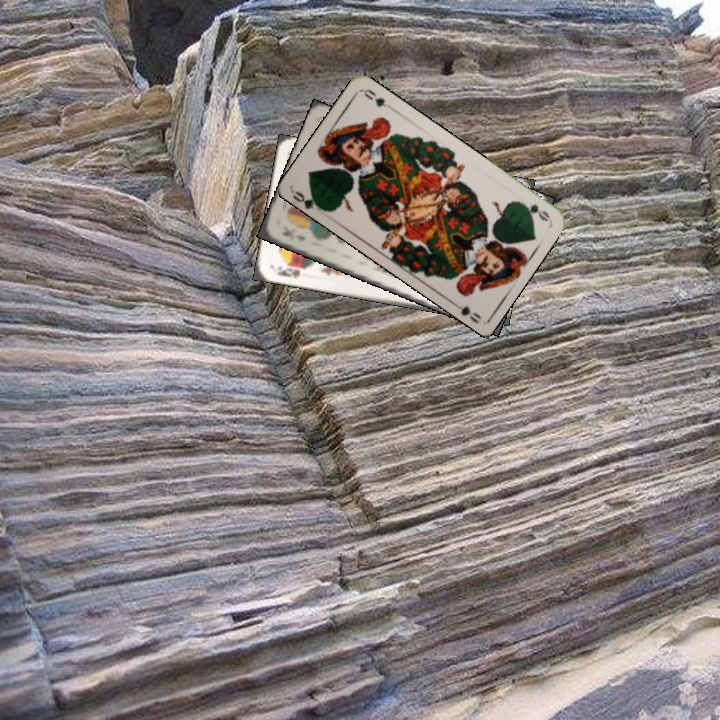EK: (278, 226, 308, 244)
GO: (514, 197, 552, 224), (290, 187, 327, 214)
SK: (273, 262, 303, 280)
